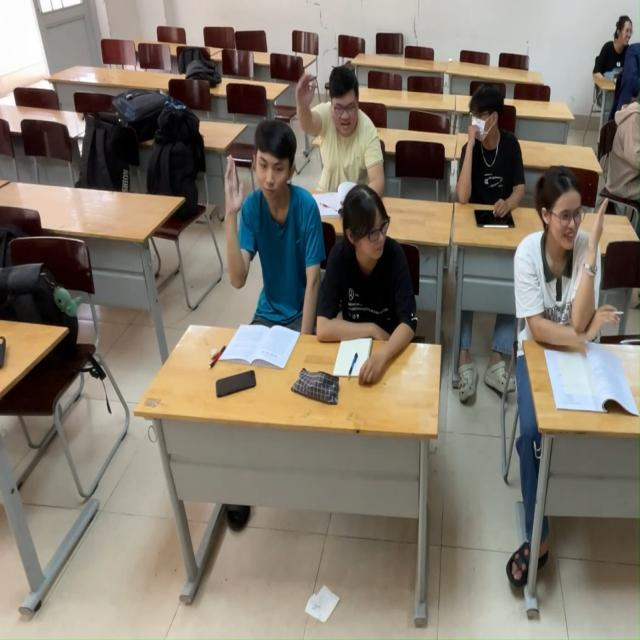raise_hand: (512, 175, 620, 409), (216, 121, 314, 378), (281, 65, 394, 199)
